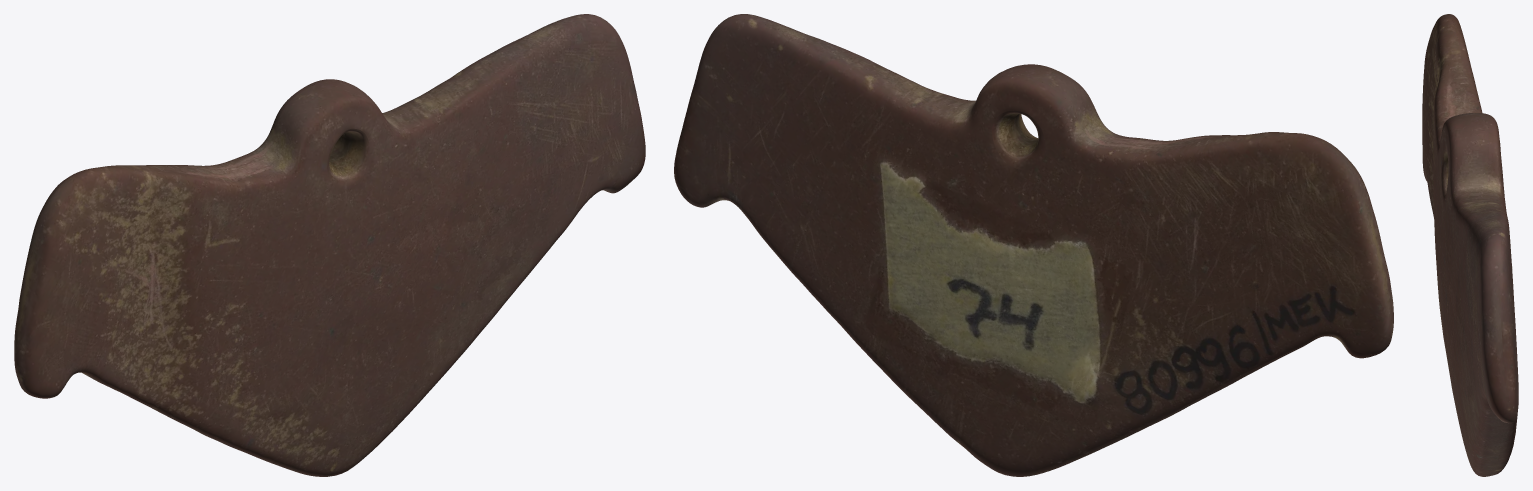
Rendered from tairona_culture_zoomorphic_pendant__bat.glb.
The picture shows the model from 3 angles, left to right: view 1: azimuth 30°, elevation 25°; view 2: azimuth 150°, elevation 25°; view 3: azimuth 270°, elevation 25°; orthographic projection. The views are drawn at different scales.
Visible parts, largest first — view 1: Object_4, Object_2, Object_3; view 2: Object_2, Object_4, Object_3; view 3: Object_4, Object_2, Object_3.
Part boxes in pixels (x1,y1,x2,y2): Object_4: [17, 14, 645, 476]; Object_2: [14, 18, 565, 394]; Object_3: [327, 128, 369, 189]; Object_2: [674, 19, 1391, 476]; Object_4: [674, 14, 1393, 441]; Object_3: [992, 111, 1045, 169]; Object_4: [1422, 14, 1514, 476]; Object_2: [1450, 14, 1518, 475]; Object_3: [1441, 148, 1448, 202].
Size of the model in its own units: 2.6 by 1.48 by 0.3694.
1 material, 1 textured.
